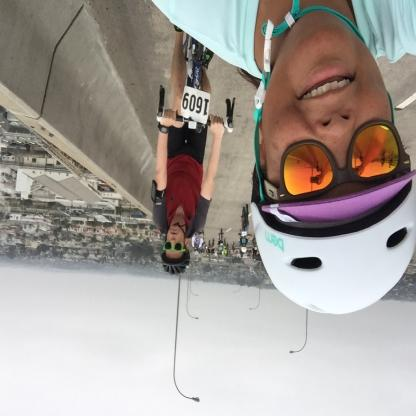Helmet: (236, 5, 401, 338), (161, 247, 188, 277)
